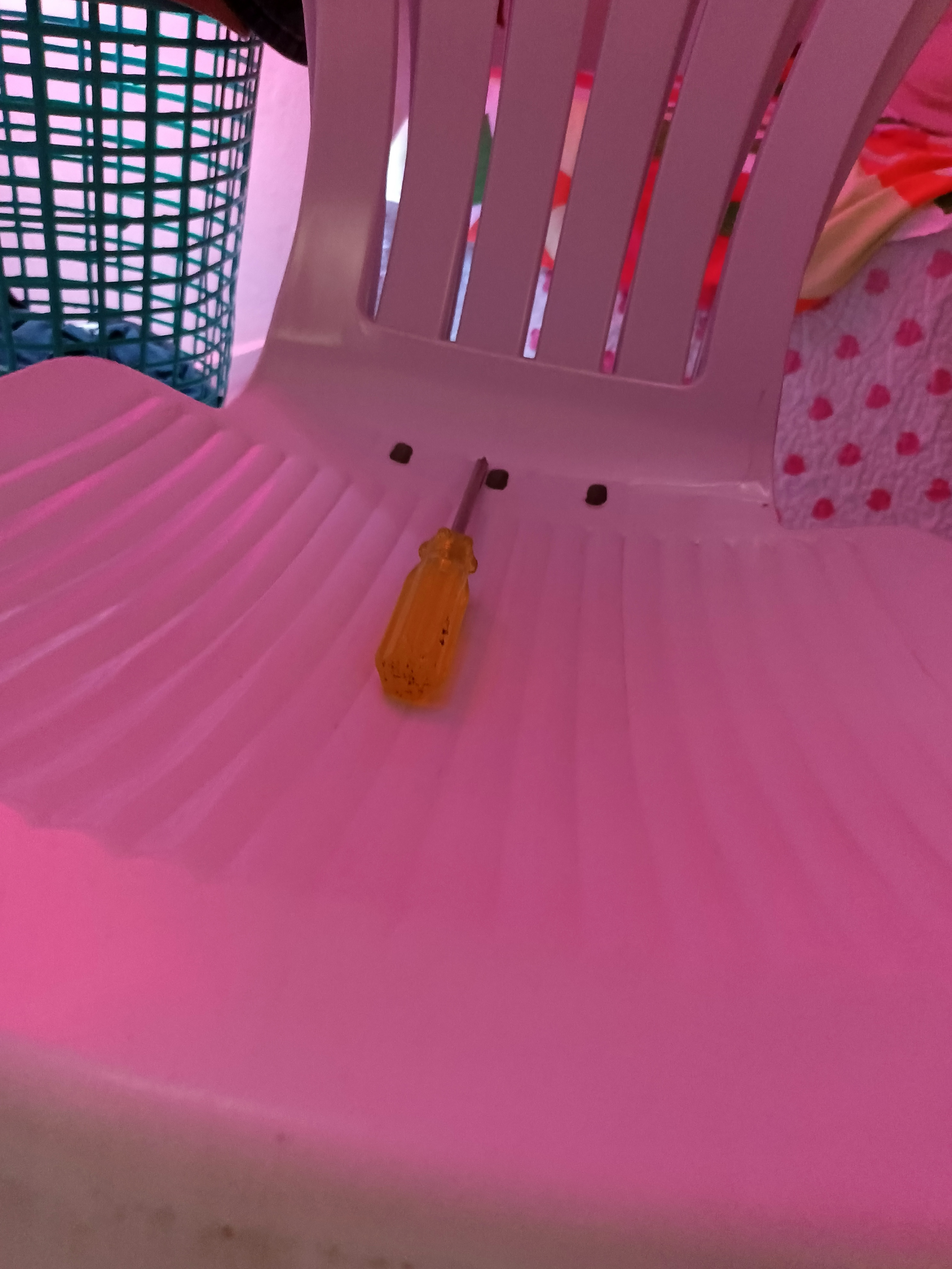Destornillador: (375, 458, 488, 704)
